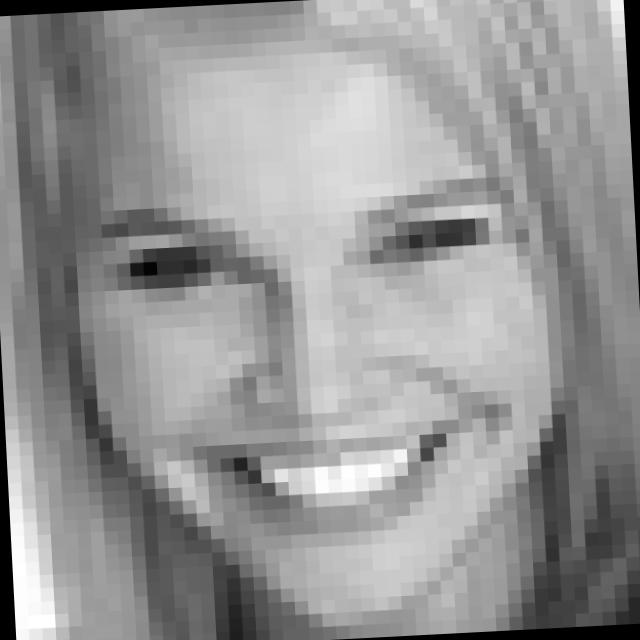happy: (82, 176, 540, 565)
